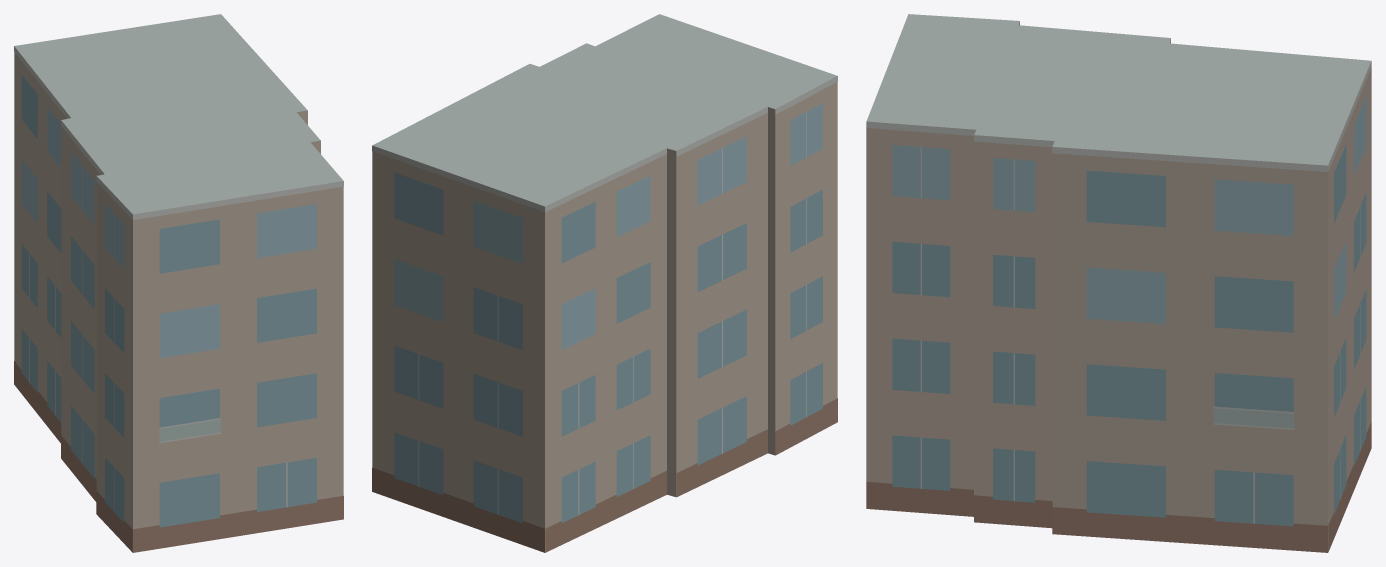
Rendered from survey-upis-32674098.glb.
The picture shows the model from 3 angles, left to right: view 1: azimuth 30°, elevation 25°; view 2: azimuth 150°, elevation 25°; view 3: azimuth 270°, elevation 25°; orthographic projection. The views are drawn at different scales.
Visible parts, largest first — view 1: survey-upis-32674098.tmp; view 2: survey-upis-32674098.tmp; view 3: survey-upis-32674098.tmp.
Boxes of the visible parts, left/top/right/bottom form: survey-upis-32674098.tmp: left=14, top=14, right=343, bottom=552; survey-upis-32674098.tmp: left=372, top=14, right=837, bottom=552; survey-upis-32674098.tmp: left=866, top=14, right=1371, bottom=552.
Bounding box in the file's own units: 12.31 × 14.65 × 17.33.
